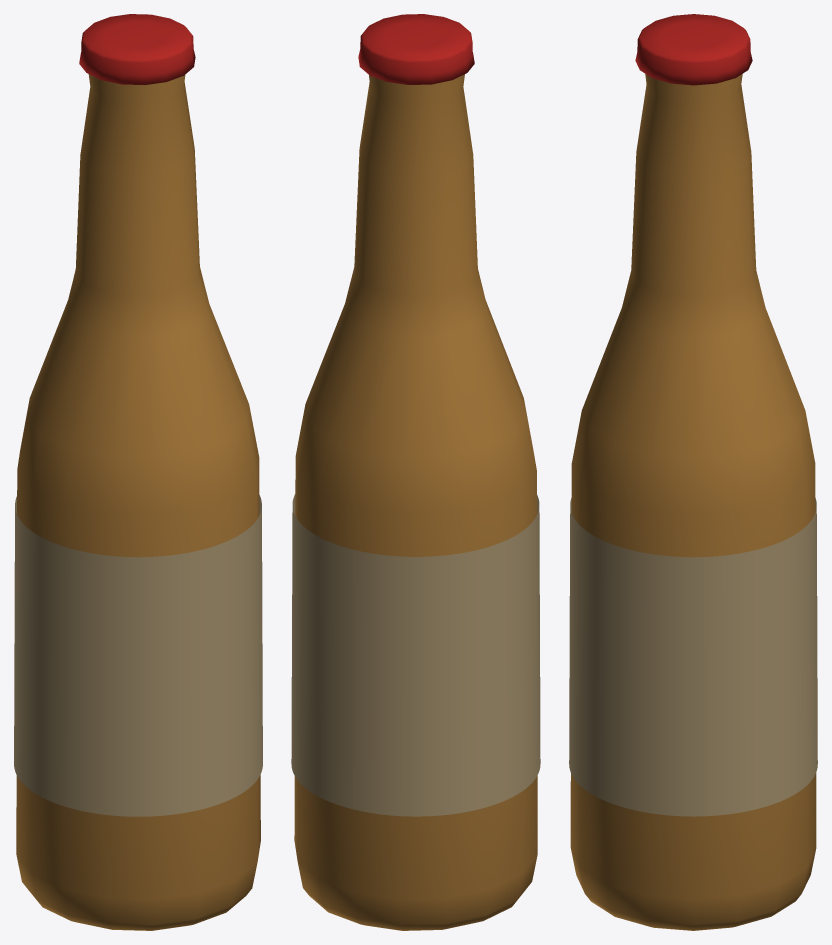
The model's file is v2_longneck_lager_minimal.glb.
3 views of the same model, side by side, from view 1: azimuth 30°, elevation 25°; view 2: azimuth 150°, elevation 25°; view 3: azimuth 270°, elevation 25° (orthographic).
Visible parts, largest first — view 1: Glass, Label_band, Cap; view 2: Glass, Label_band, Cap; view 3: Glass, Label_band, Cap.
Boxes of the visible parts, bbox=[...] form: Glass: bbox=[16, 74, 260, 930]; Label_band: bbox=[14, 495, 262, 816]; Cap: bbox=[79, 14, 195, 84]; Glass: bbox=[294, 74, 537, 930]; Label_band: bbox=[291, 494, 540, 816]; Cap: bbox=[358, 14, 474, 84]; Glass: bbox=[570, 74, 816, 930]; Label_band: bbox=[569, 498, 817, 816]; Cap: bbox=[635, 14, 752, 85].
Size of the model in its own units: 0.0636 by 0.2403 by 0.0636.
